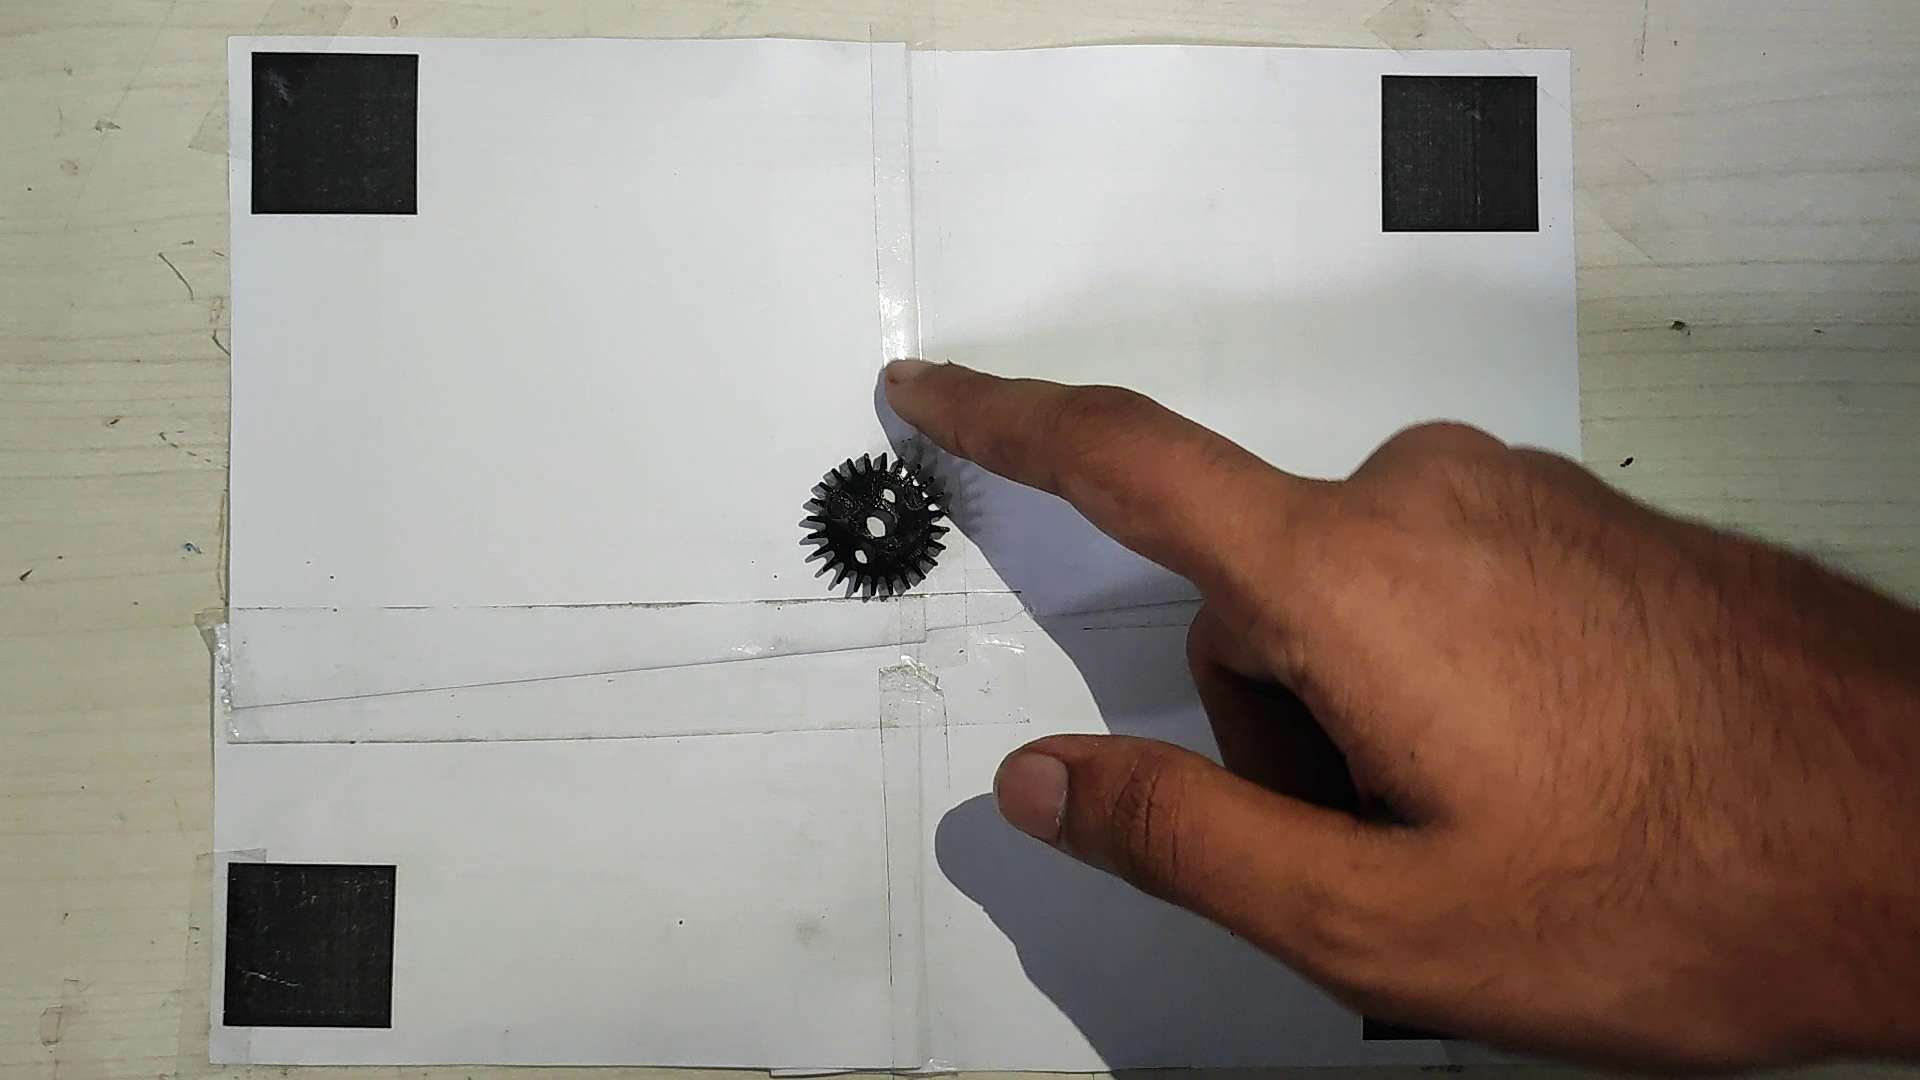Gear: (800, 444, 953, 603)
